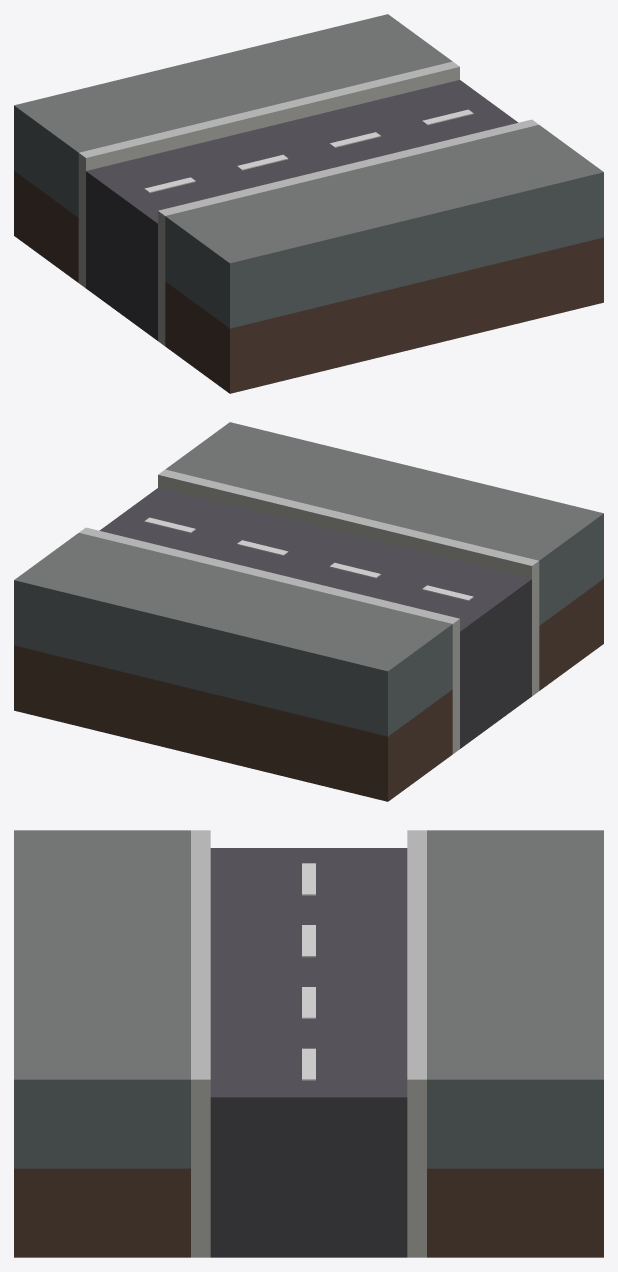
File: TB_CITY_Road_E.FBX
3 views of the same model, one above another, from view 1: azimuth 30°, elevation 25°; view 2: azimuth 150°, elevation 25°; view 3: azimuth 270°, elevation 25° (orthographic). The views are drawn at different scales.
Parts seen in each view (by area): view 1: TB_CITY_Road_E; view 2: TB_CITY_Road_E; view 3: TB_CITY_Road_E.
Boxes of the visible parts, x1,y1,x2,y2 form: TB_CITY_Road_E: (14,14,603,393); TB_CITY_Road_E: (14,422,603,801); TB_CITY_Road_E: (14,830,603,1257).
Size of the model in its own units: 30 by 10 by 30.
